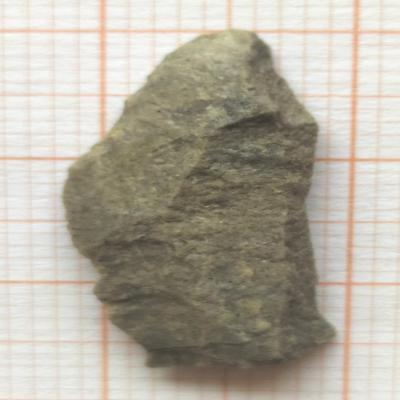archeology: (61, 29, 336, 371)
